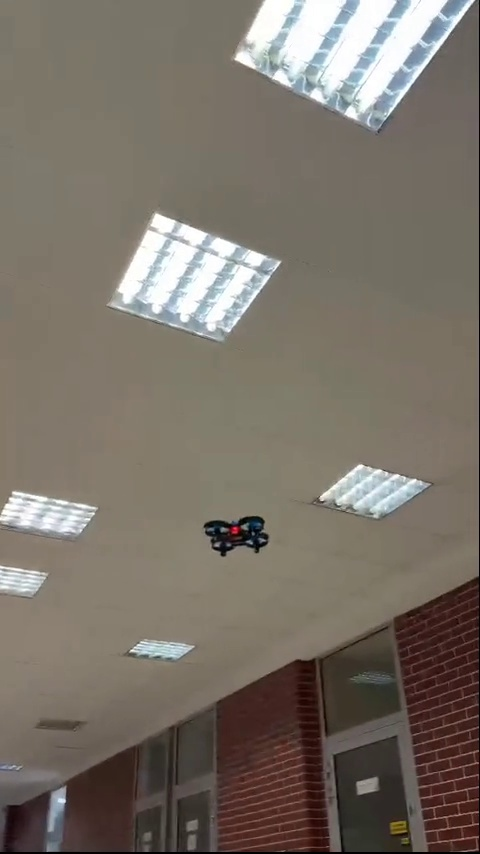drone: (206, 512, 268, 554)
